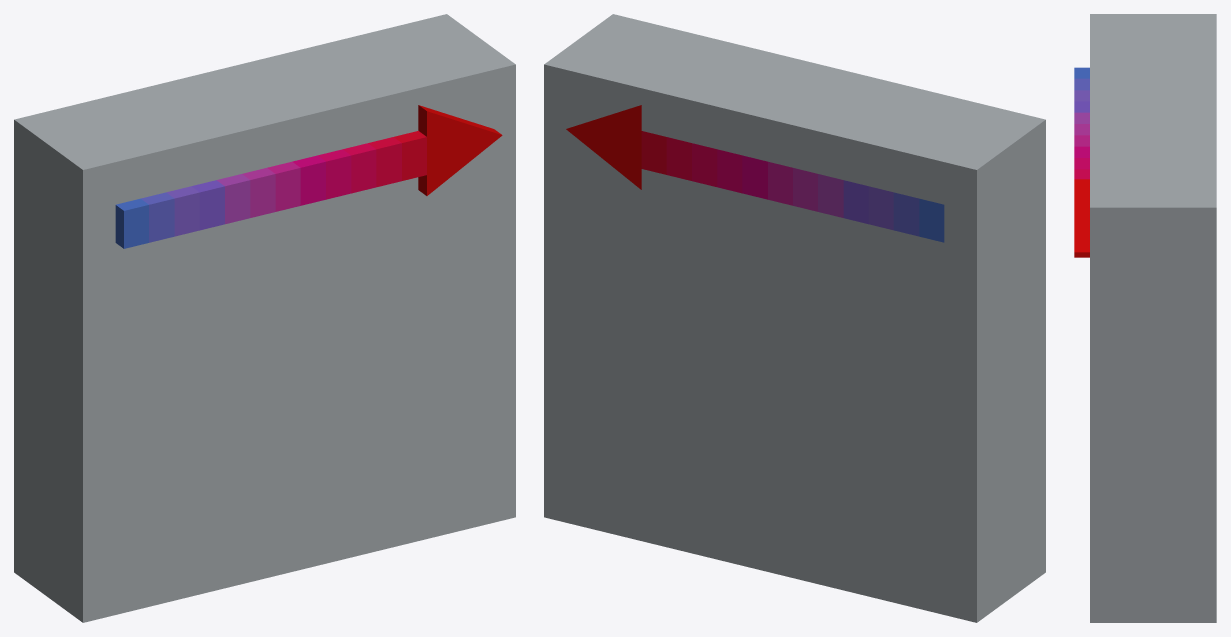
Rendered from tinker.obj.
3 views of the same model, side by side, from view 1: azimuth 30°, elevation 25°; view 2: azimuth 150°, elevation 25°; view 3: azimuth 270°, elevation 25° (orthographic). The views are drawn at different scales.
Visible parts, largest first — view 1: group_0_10988977, group_0_13631488, group_0_4484039, group_0_6382789, group_0_14286907, group_0_13500539, group_0_10765485, group_0_11875487, group_0_7754948, group_0_8018880, group_0_14024807, group_0_12787854 (+2 smaller); view 2: group_0_10988977, group_0_13631488, group_0_6382789, group_0_7754948, group_0_10765485, group_0_13500539, group_0_14024807, group_0_14090275, group_0_14286930, group_0_4484039, group_0_8018880, group_0_14286907 (+2 smaller); view 3: group_0_10988977, group_0_13631488.
Boxes of the visible parts, x1=… form: group_0_10988977: x1=14, y1=14, x2=515, y2=622; group_0_13631488: x1=418, y1=105, x2=502, y2=195; group_0_4484039: x1=115, y1=198, x2=148, y2=248; group_0_6382789: x1=141, y1=192, x2=174, y2=242; group_0_14286907: x1=368, y1=137, x2=401, y2=187; group_0_13500539: x1=292, y1=155, x2=325, y2=205; group_0_10765485: x1=216, y1=174, x2=250, y2=224; group_0_11875487: x1=242, y1=168, x2=275, y2=217; group_0_7754948: x1=191, y1=180, x2=224, y2=230; group_0_8018880: x1=166, y1=186, x2=199, y2=236; group_0_14024807: x1=318, y1=149, x2=351, y2=199; group_0_12787854: x1=267, y1=161, x2=300, y2=211; group_0_10988977: x1=544, y1=14, x2=1045, y2=622; group_0_13631488: x1=566, y1=105, x2=641, y2=189; group_0_6382789: x1=893, y1=192, x2=919, y2=236; group_0_7754948: x1=843, y1=180, x2=868, y2=224; group_0_10765485: x1=818, y1=174, x2=843, y2=217; group_0_13500539: x1=742, y1=155, x2=767, y2=199; group_0_14024807: x1=717, y1=149, x2=742, y2=193; group_0_14090275: x1=641, y1=131, x2=666, y2=174; group_0_14286930: x1=692, y1=143, x2=717, y2=186; group_0_4484039: x1=919, y1=198, x2=944, y2=242; group_0_8018880: x1=868, y1=186, x2=893, y2=230; group_0_14286907: x1=666, y1=137, x2=691, y2=180; group_0_10988977: x1=1090, y1=14, x2=1216, y2=622; group_0_13631488: x1=1074, y1=179, x2=1089, y2=257.
Size of the model in its own units: 1 by 1 by 0.31.
